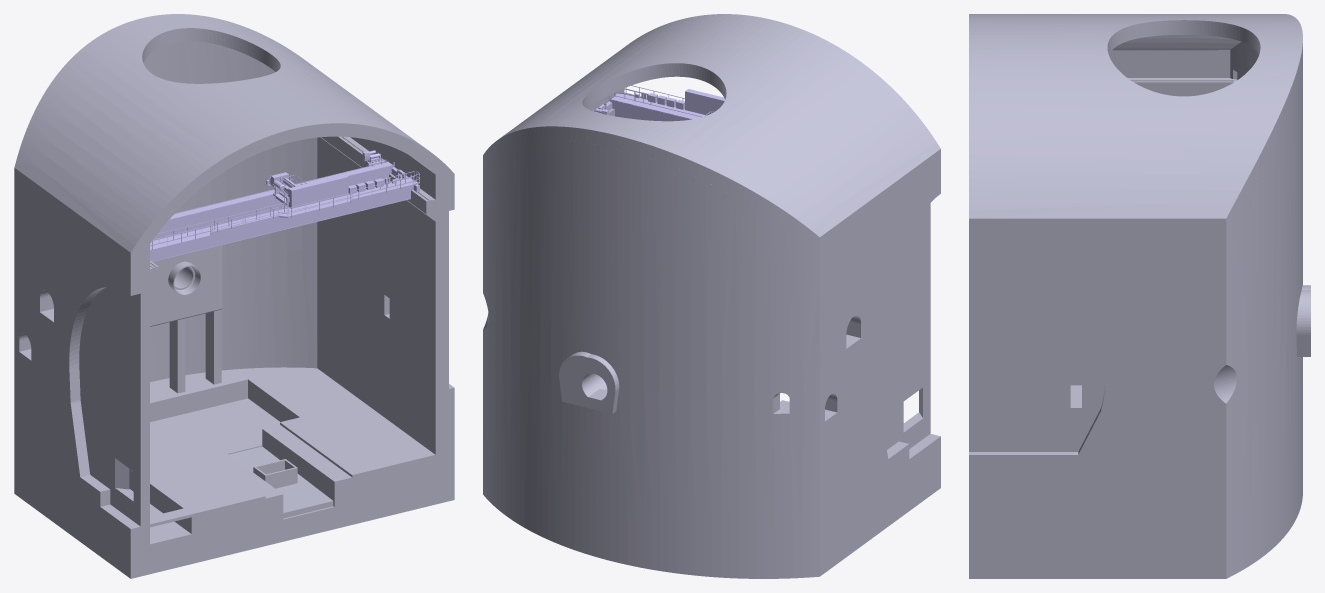
The model's file is UX15-cut1.glb.
The picture shows the model from 3 angles, left to right: view 1: azimuth 30°, elevation 25°; view 2: azimuth 150°, elevation 25°; view 3: azimuth 270°, elevation 25°; orthographic projection. The views are drawn at different scales.
Visible parts, largest first — view 1: null; view 2: null; view 3: null.
Part boxes in pixels (bbox=[...]): null: bbox=[14, 14, 454, 578]; null: bbox=[483, 14, 940, 578]; null: bbox=[969, 14, 1310, 578].
Bounding box in the file's own units: 34 × 41.2 × 28.15.
